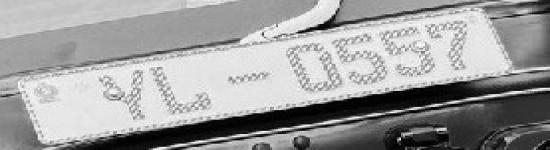-: (220, 66, 277, 89)
0: (288, 40, 336, 92)
5: (332, 32, 386, 86), (379, 26, 431, 76)
7: (428, 20, 473, 71)
L: (154, 62, 214, 116)
Y: (99, 70, 151, 121)
